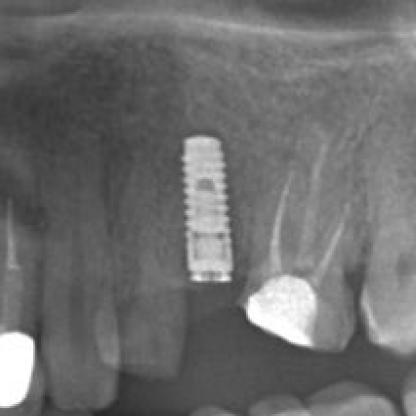ITI: (167, 132, 238, 286)
